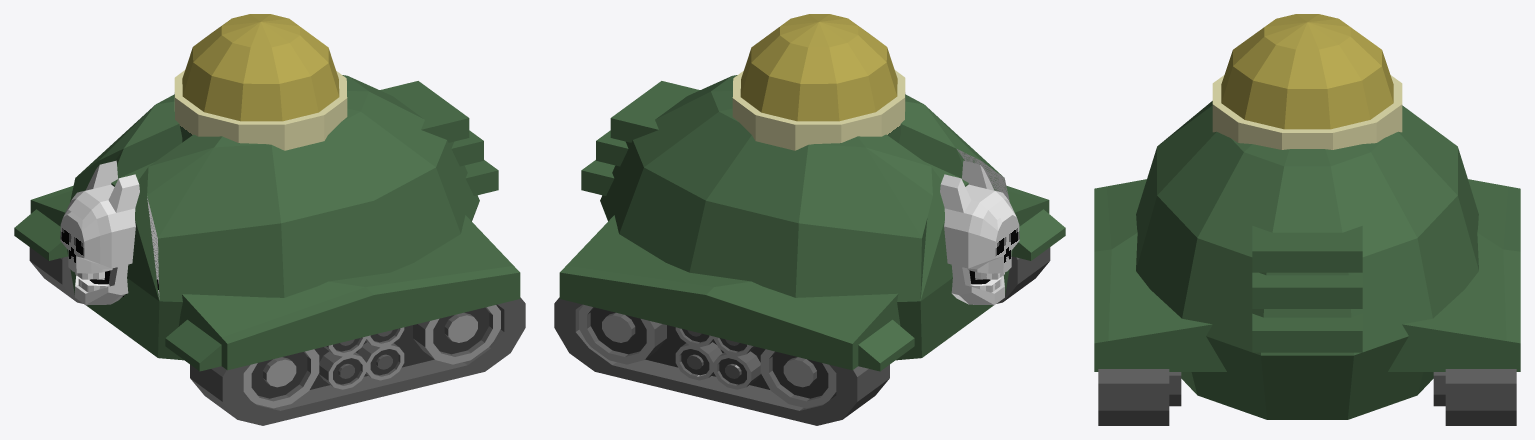
File: SheerHeartJJL.glb
3 views of the same model, side by side, from view 1: azimuth 30°, elevation 25°; view 2: azimuth 150°, elevation 25°; view 3: azimuth 270°, elevation 25° (orthographic). The views are drawn at different scales.
Visible parts, largest first — view 1: group, cylinder; view 2: group, cylinder; view 3: group, cylinder.
Part boxes in pixels (x1,y1,x2,y2): group: (14,14,520,371); cylinder: (29,247,525,425); group: (559,14,1065,371); cylinder: (554,247,1050,425); group: (1094,14,1520,419); cylinder: (1098,369,1516,425).
Bounding box in the file's own units: 5.37 × 3.98 × 4.57.
3 materials, 3 textured.
